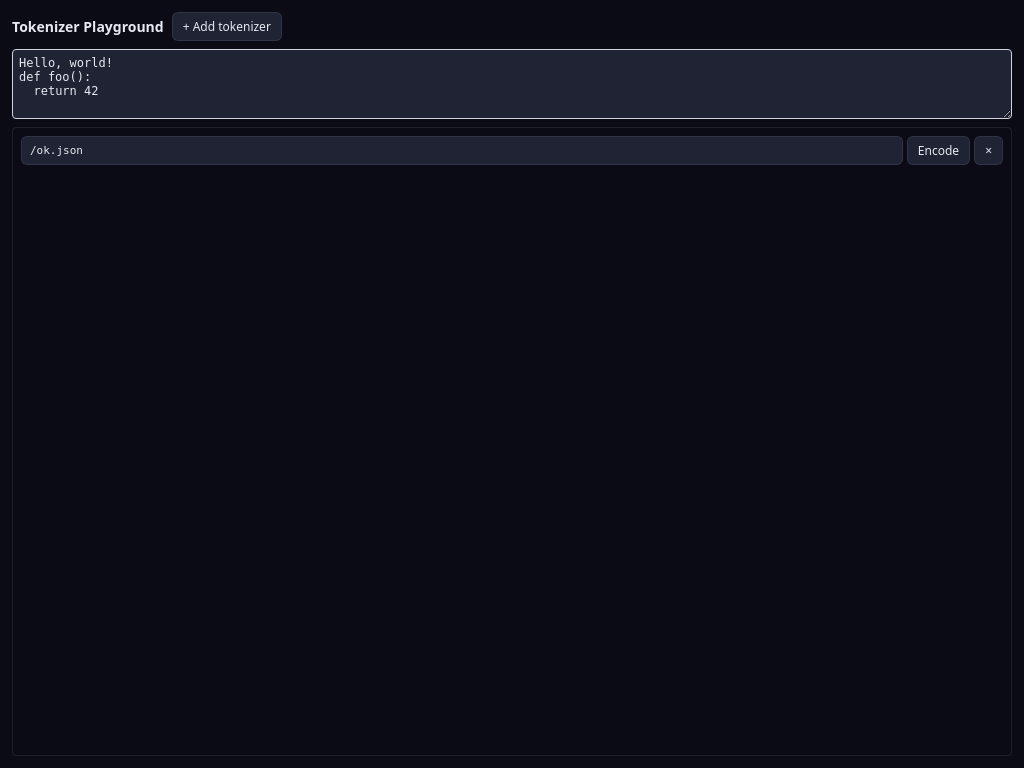
it: TokenizerPlayground › V7-H46: roundtrip pill renders ok when byte_roundtrip=true
The image size is (1024, 768).
Click the button with test id "tokenizer-encode-0" at (939, 150), box [907,136,970,165]
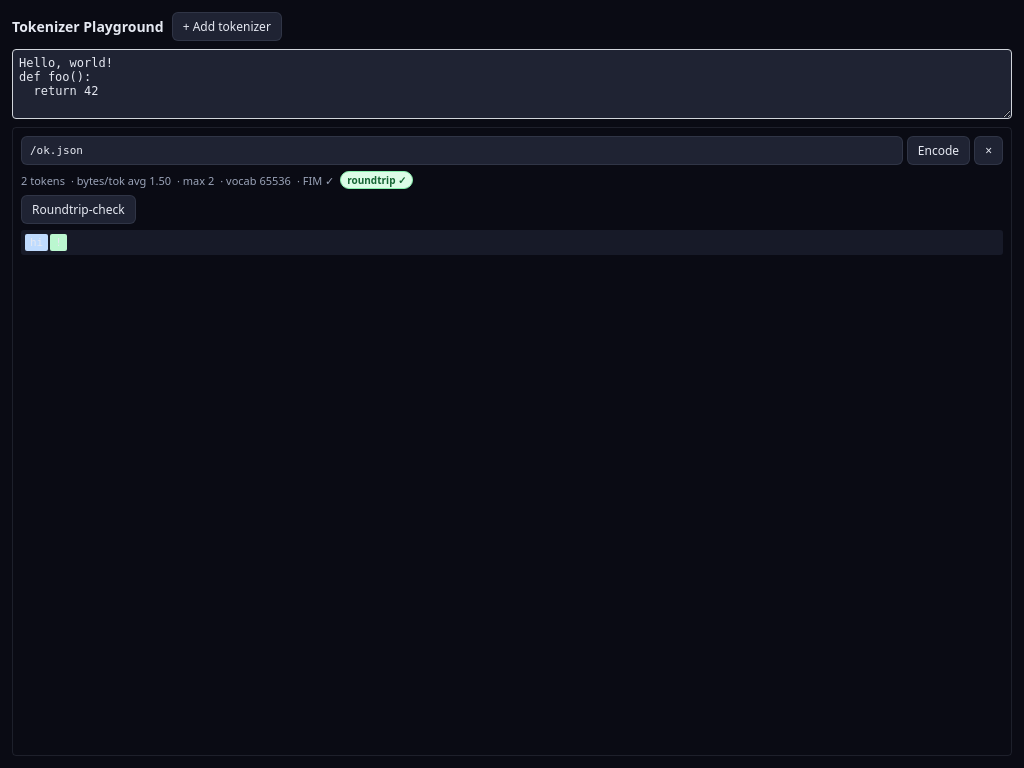
Check: the text "roundtrip ✓" is shown, box [340,171,414,189]
Check: the text with test id "tokenizer-roundtrip-0" shows "✓", box [347,173,406,187]
